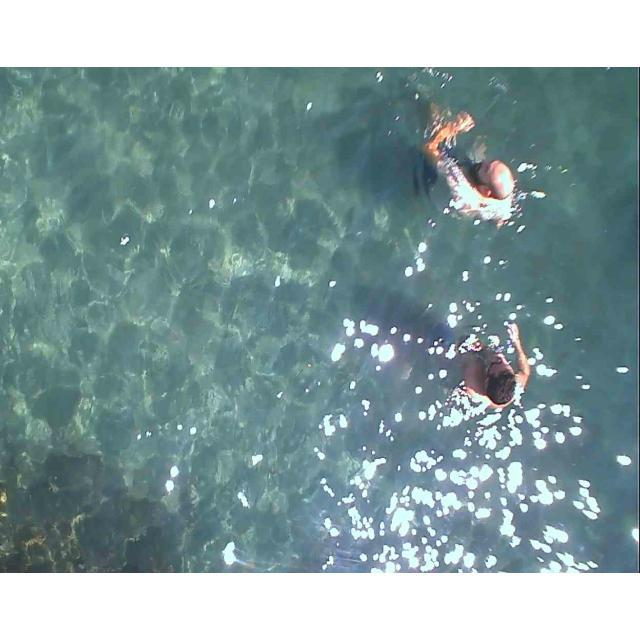human: (432, 101, 532, 247), (456, 320, 533, 414)
